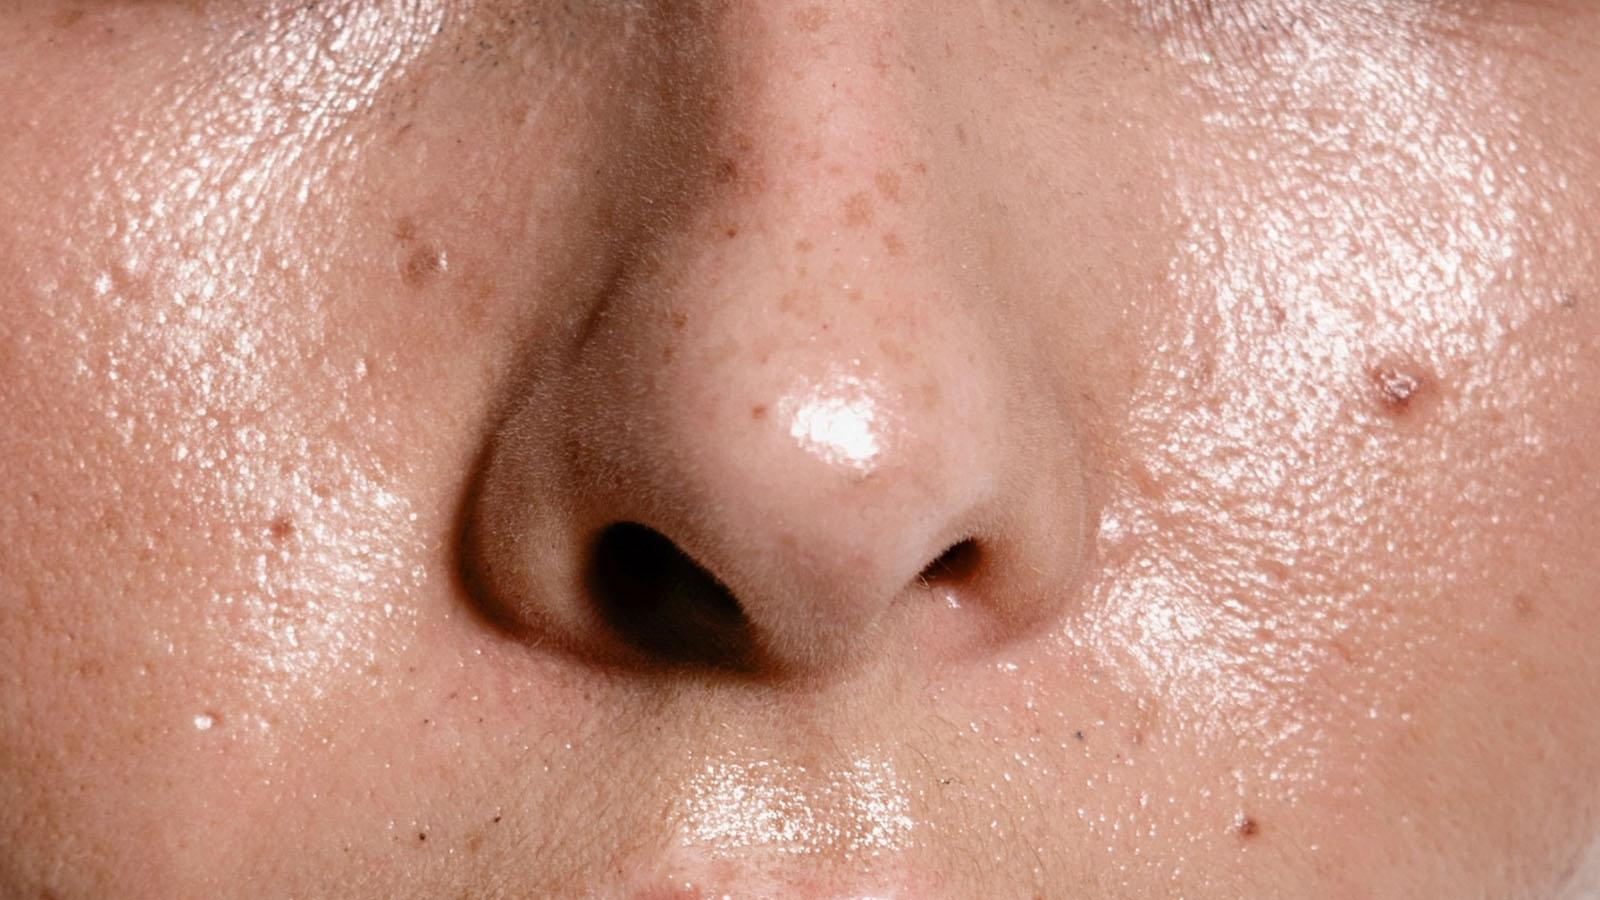Oily-Skin: (1058, 86, 1600, 896), (15, 20, 412, 900), (562, 37, 981, 502), (448, 693, 1053, 900)
